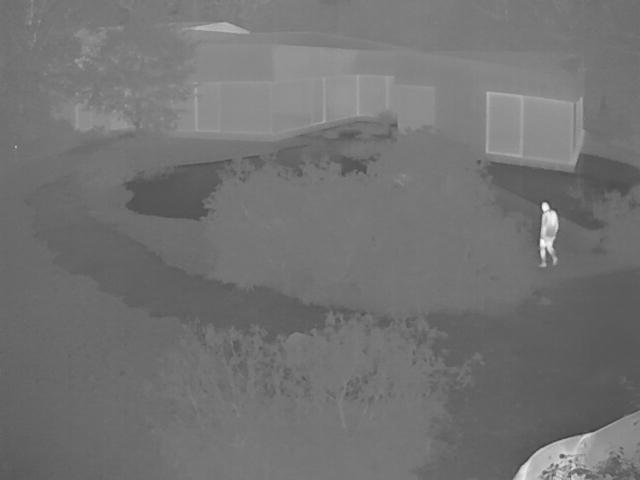person: (540, 200, 559, 265)
